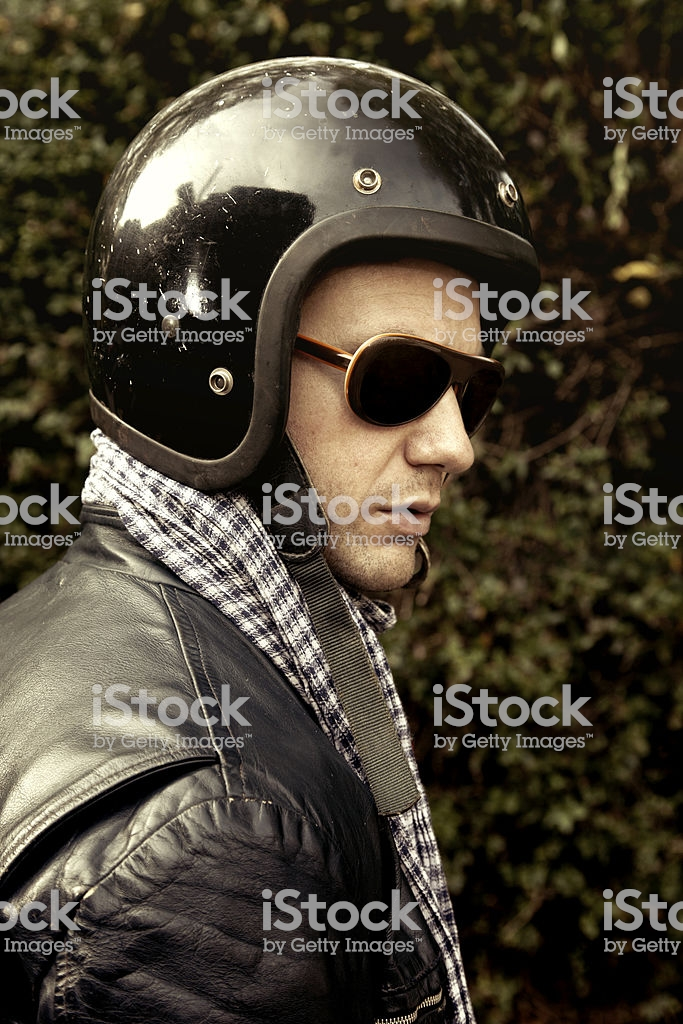with_helmet: (91, 50, 536, 482)
